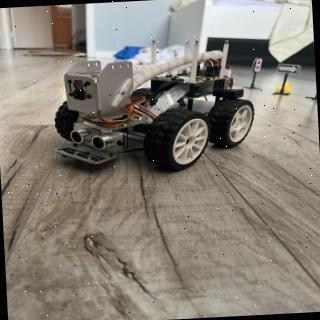duck_regular: (277, 81, 294, 98)
sign_noentry: (253, 58, 265, 76)
sign_oneway_right: (276, 62, 302, 79)
vehicle: (48, 35, 260, 179)
